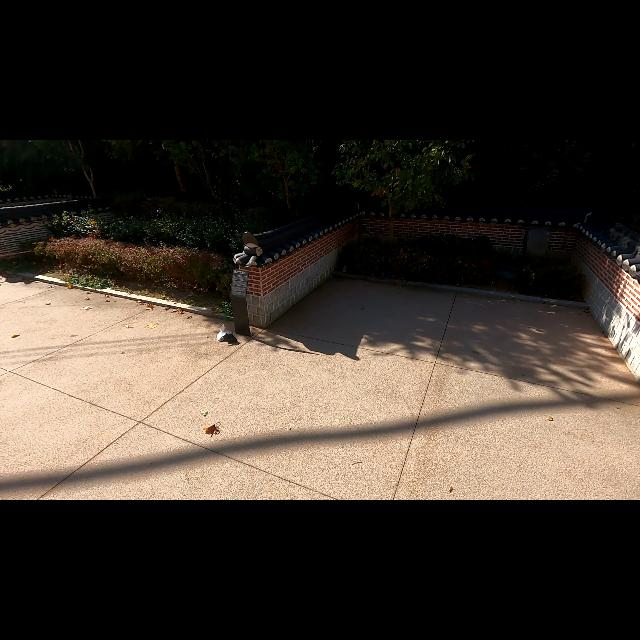trash: (217, 332, 239, 346), (216, 324, 230, 341)
